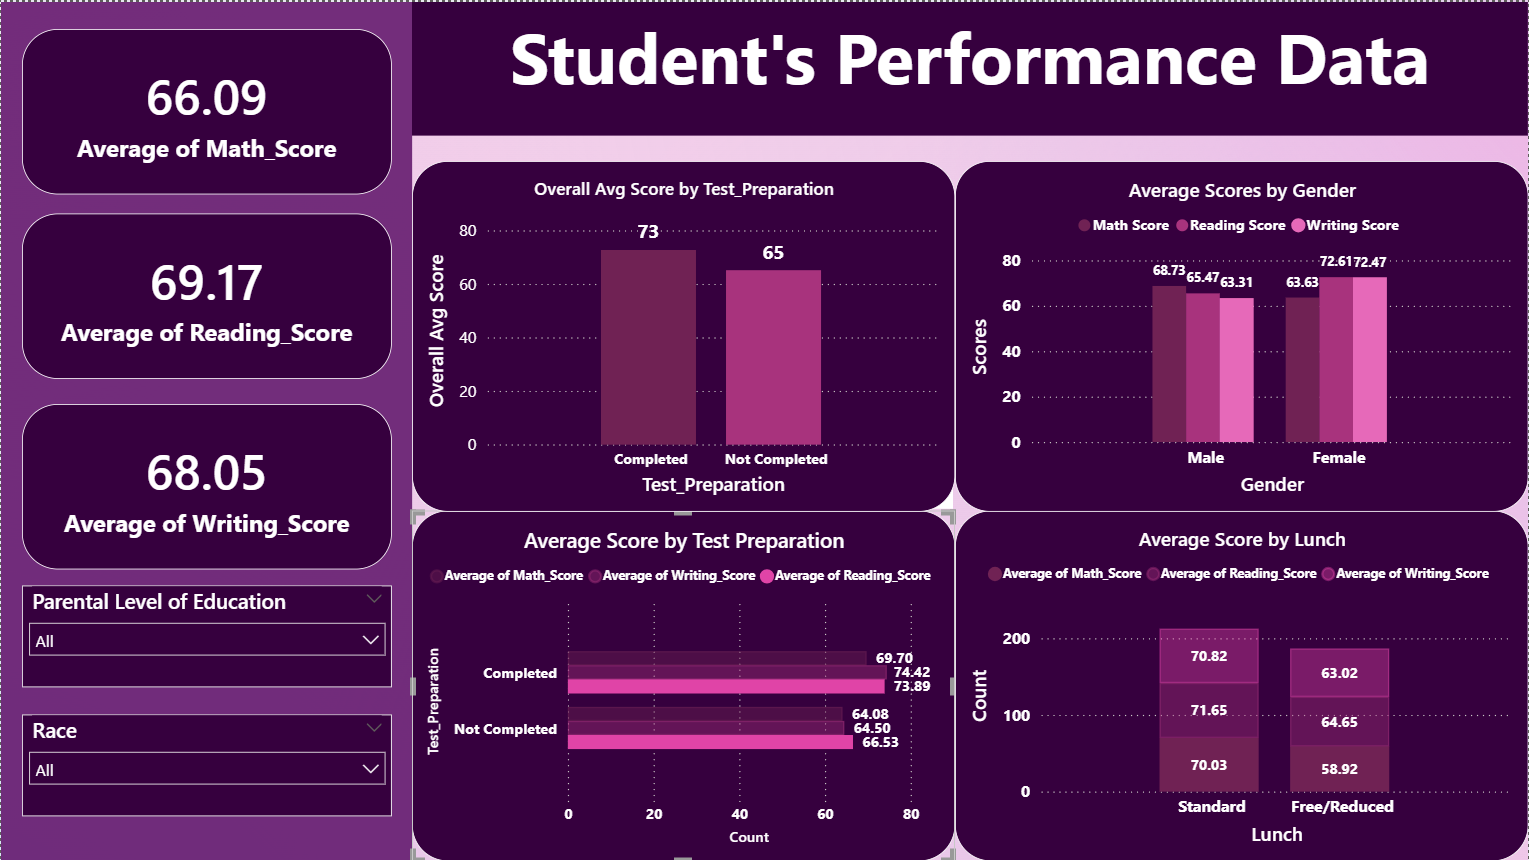

The page's visual inventory and layout, read from the dashboard file:
{"tool":"powerbi","page":{"name":"Page 1","canvas":[1280,720],"ordinal":0},"visuals":[{"type":"shape","box":[0,0,344.6,720.6],"z":0},{"type":"card","fields":{"Values":["Avg(StudentsPerformance.Math_Score)"]},"box":[17.9,22.4,310.3,138.7],"z":1000},{"type":"card","fields":{"Values":["Avg(StudentsPerformance.Reading_Score)"]},"box":[17.9,177.5,310.3,138.7],"z":2000},{"type":"card","fields":{"Values":["Avg(StudentsPerformance.Writing_Score)"]},"box":[17.9,337.2,310.3,138.7],"z":3000},{"type":"slicer","fields":{"Values":["StudentsPerformance.Race"]},"box":[17.9,596.7,310.3,85],"z":4000},{"type":"slicer","fields":{"Values":["StudentsPerformance.Parental_Level_of_Education"]},"box":[17.9,489.3,310.3,85],"z":5000},{"type":"clusteredBarChart","title":"Average Score by Test Preparation","fields":{"Category":["StudentsPerformance.Test_Preparation"],"Y":["Avg(StudentsPerformance.Math_Score)","Avg(StudentsPerformance.Writing_Score)","Avg(StudentsPerformance.Reading_Score)"]},"box":[344.6,426.7,455,293.9],"z":7000},{"type":"columnChart","title":"Average Score by Lunch","fields":{"Category":["StudentsPerformance.Lunch"],"Y":["Avg(StudentsPerformance.Math_Score)","Avg(StudentsPerformance.Reading_Score)","Avg(StudentsPerformance.Writing_Score)"]},"box":[799.6,426.7,480.4,293.9],"z":8000},{"type":"clusteredColumnChart","title":"Average Scores by Gender","fields":{"Y":["Avg(StudentsPerformance.Math_Score)","Avg(StudentsPerformance.Reading_Score)","Avg(StudentsPerformance.Writing_Score)"],"Category":["StudentsPerformance.Gender"]},"box":[799.6,132.8,480.4,293.9],"z":9000},{"type":"textbox","box":[344.6,0,935.4,111.9],"z":10000},{"type":"columnChart","fields":{"Category":["StudentsPerformance.Test_Preparation"],"Y":["StudentsPerformance.Overall Avg Score"]},"box":[344.6,132.8,455,293.9],"z":10001}]}

Visuals, with their boxes in screenshot pixels (x1, y1, x2, y2), scaled from the page's 1280x720 canvas onto the 1529x860 screenshot:
shape: rect(0, 0, 412, 859)
card - Avg(StudentsPerformance.Math_Score): rect(21, 27, 392, 192)
card - Avg(StudentsPerformance.Reading_Score): rect(21, 212, 392, 378)
card - Avg(StudentsPerformance.Writing_Score): rect(21, 403, 392, 568)
slicer - StudentsPerformance.Race: rect(21, 713, 392, 814)
slicer - StudentsPerformance.Parental_Level_of_Education: rect(21, 584, 392, 686)
"Average Score by Test Preparation" clusteredBarChart: rect(412, 510, 955, 859)
"Average Score by Lunch" columnChart: rect(955, 510, 1528, 859)
"Average Scores by Gender" clusteredColumnChart: rect(955, 159, 1528, 510)
textbox: rect(412, 0, 1528, 134)
columnChart - StudentsPerformance.Test_Preparation x StudentsPerformance.Overall Avg Score: rect(412, 159, 955, 510)
